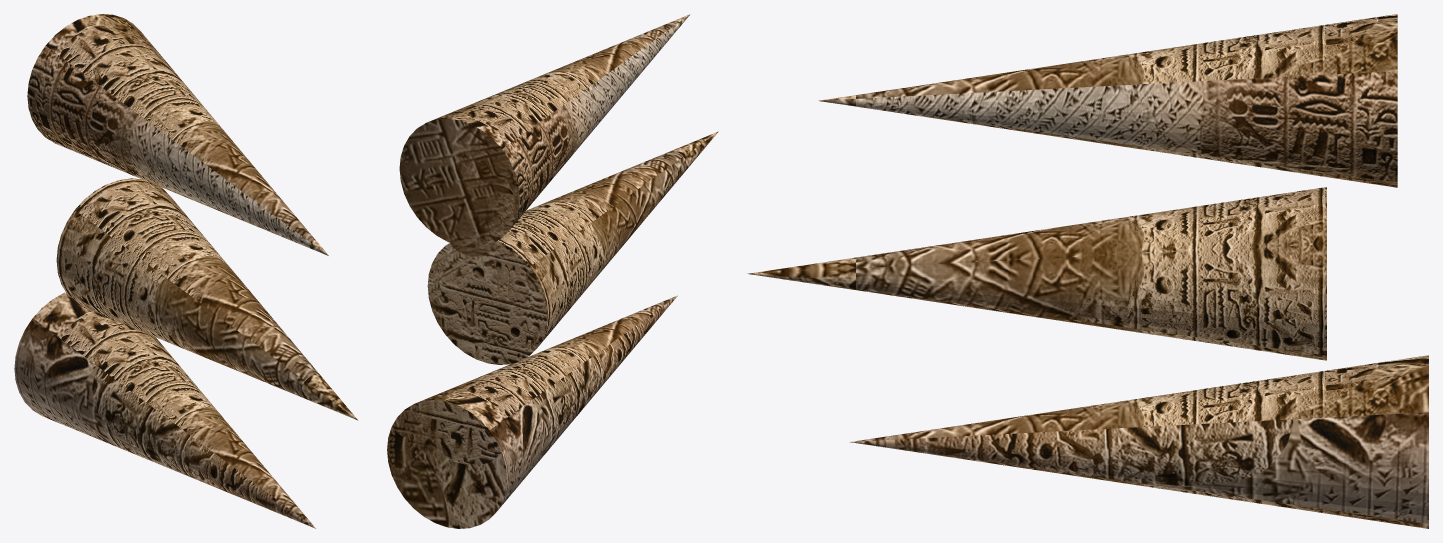
Rendered from beta.glb.
The picture shows the model from 3 angles, left to right: view 1: azimuth 30°, elevation 25°; view 2: azimuth 150°, elevation 25°; view 3: azimuth 270°, elevation 25°; orthographic projection. The views are drawn at different scales.
Parts seen in each view (by area): view 1: Cone.001; view 2: Cone.001; view 3: Cone.001.
Part boxes in pixels (x1,y1,x2,y2): Cone.001: (14,14,357,528); Cone.001: (387,14,718,528); Cone.001: (747,14,1428,528).
Size of the model in its own units: 0.6 by 1.9 by 2.35.
1 material, 1 textured.
